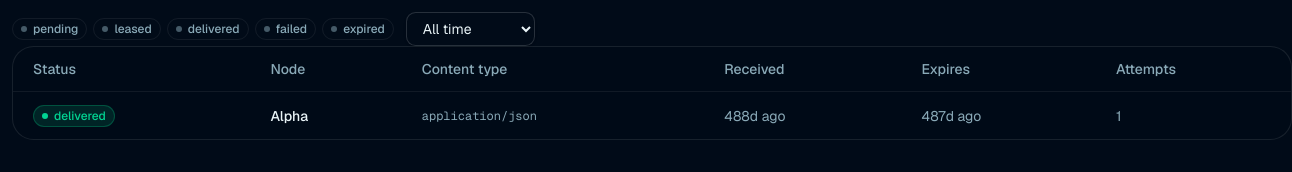
Scenario: EventsClient › refetches when a status filter is toggled
What coordinates should you click on to do the following:
click the button "pending"
I would click on:
 (50, 29)
Its box is [12, 18, 87, 40].
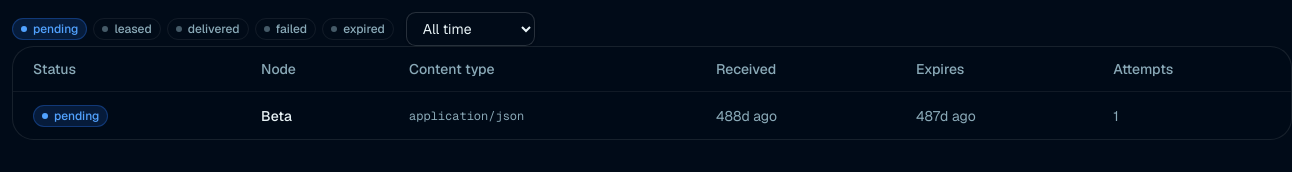
expect the text "Beta" is shown: met, box [241, 92, 389, 139]
expect the text "Alpha" is gone: met
